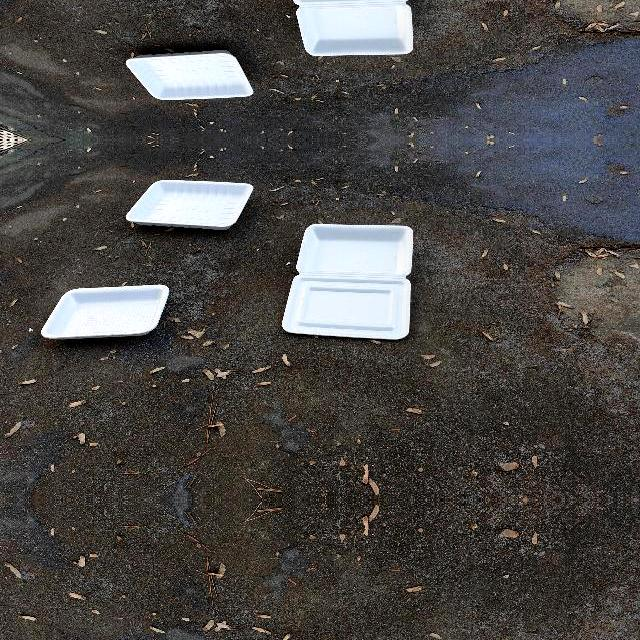Styrofoam: (280, 222, 416, 342), (282, 223, 414, 339), (280, 0, 415, 57), (40, 281, 170, 339), (40, 284, 168, 338), (293, 0, 414, 57), (126, 179, 254, 231), (126, 49, 254, 101), (125, 179, 253, 229), (125, 51, 253, 101)
